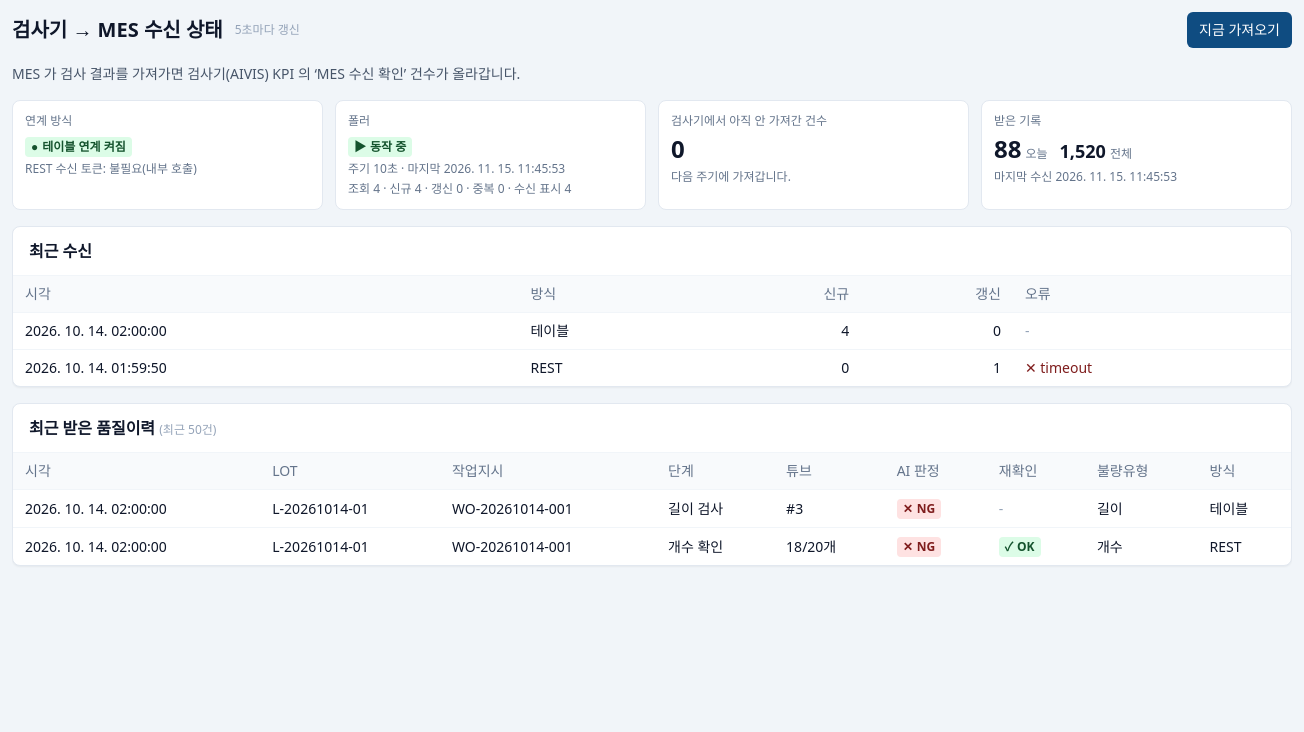
Scenario: MesLinkPage › 가져오기 실패(409 등)는 서버 문구 그대로
Check: the element with test id "link-mode" is shown, box x1=12 y1=100 x2=323 y2=210
Click the button with test id "poll-now": coordinates (1240, 30) x1=1187 y1=12 x2=1292 y2=48
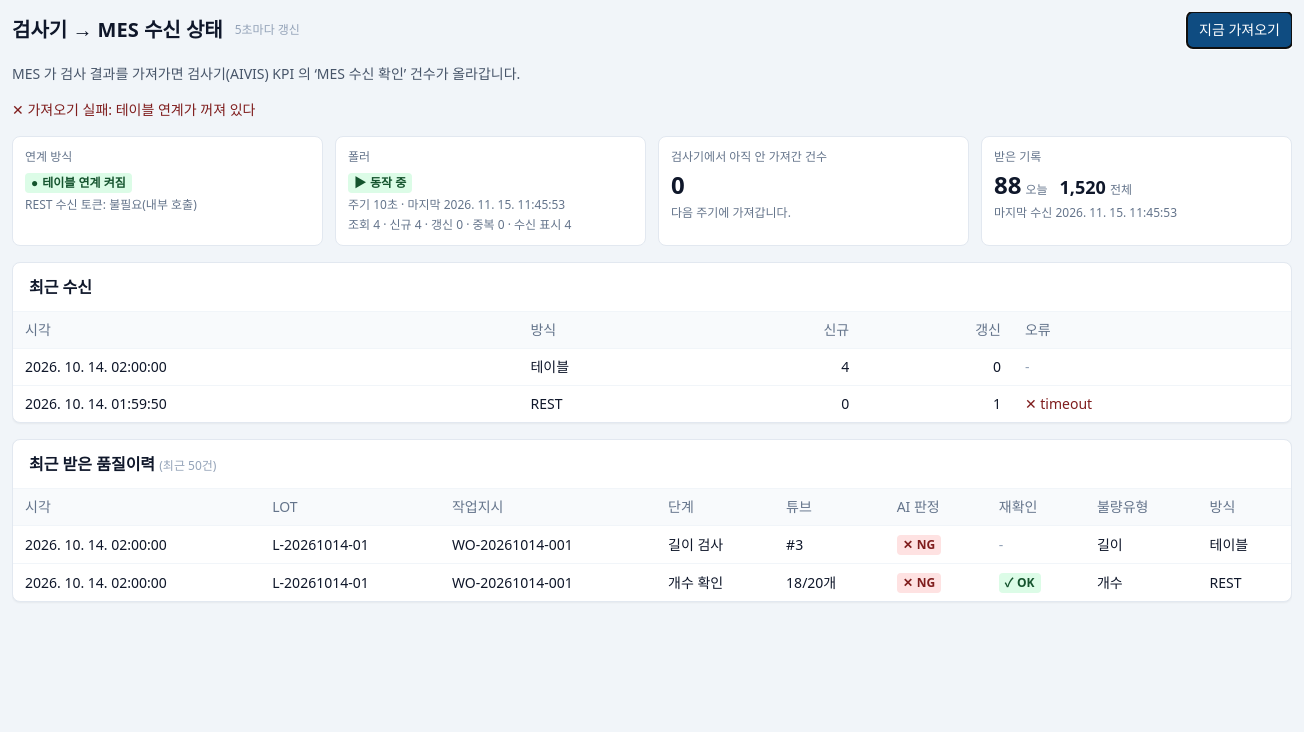
Check: the message with test id "poll-result" shows "가져오기 실패: 테이블 연계가 꺼져 있다", box x1=12 y1=100 x2=255 y2=119
